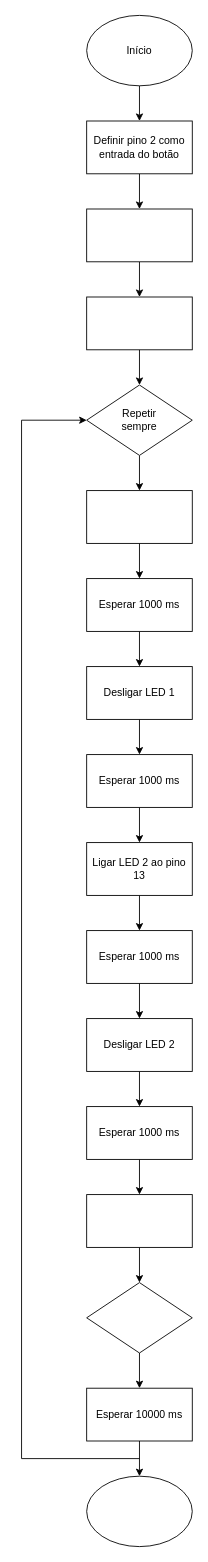
The diagram is 208 pixels wide and 1562 high, and some of its shapes have lost their labels. The centre of each missing label's shape, as x and y in pixels:
Configurar pino 12 como saída do LED 1: (139,235)
Configurar pino 13 como saída do LED 2: (139,323)
Fim: (139,1511)
Ler botão do pino 2: (139,1220)
Ligar LED 1 ao pino 12: (139,516)
Se o botão for pressionado: (139,1317)
